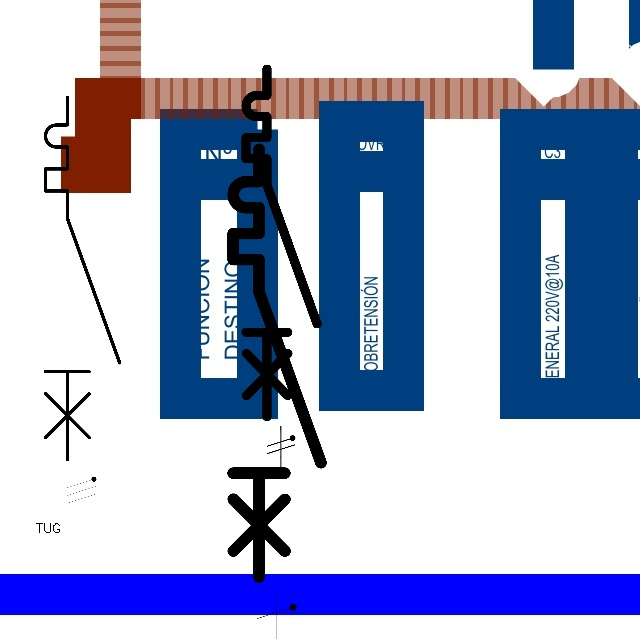interruptor_termomagnetico: (222, 138, 332, 588), (36, 88, 129, 468), (237, 60, 326, 425)
